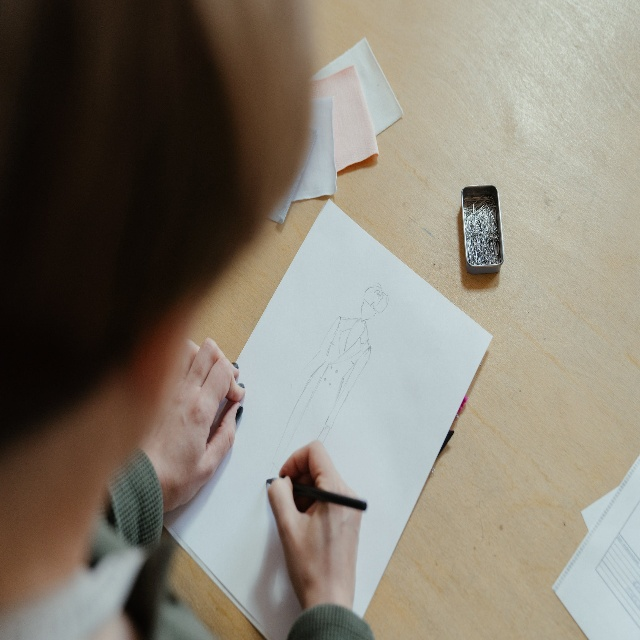Sin_guantes: (141, 336, 246, 511), (268, 438, 363, 611)
